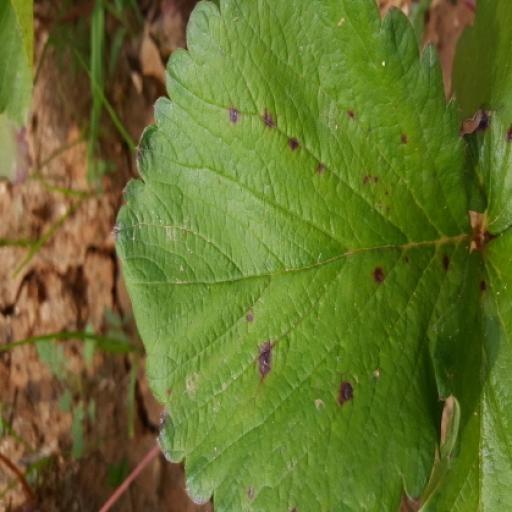Leaf Spot: (112, 0, 479, 511), (415, 232, 512, 511), (448, 0, 511, 235)
